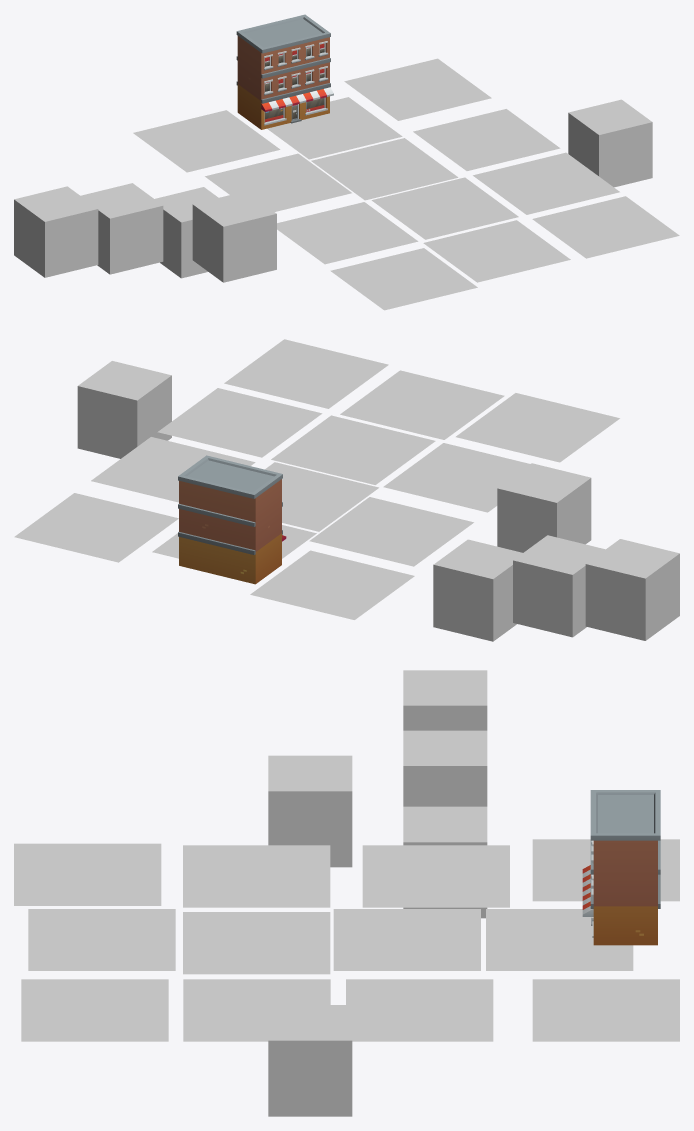
Rendered from city.glb.
The picture shows the model from 3 angles, top to bottom: view 1: azimuth 30°, elevation 25°; view 2: azimuth 150°, elevation 25°; view 3: azimuth 270°, elevation 25°; orthographic projection. The views are drawn at different scales.
Visible parts, largest first — view 1: building_E_withoutBase, Cube.002, Cube.003, Cube.004, Cube.001, Plane, Plane.007, Plane.003, Plane.004, Plane.006, Plane.008, Plane.009 (+6 smaller); view 2: building_E_withoutBase, Cube.002, Cube.004, Cube, Cube.003, Cube.001, Plane.008, Plane.002, Plane.010, Plane, Plane.004, Plane.006 (+6 smaller); view 3: building_E_withoutBase, Cube.004, Plane.001, Plane.002, Plane.010, Plane.011, Plane, Plane.007, Plane.003, Plane.004, Plane.009, Cube.003 (+6 smaller).
Boxes of the visible parts, x1=… form: building_E_withoutBase: x1=236, y1=14, x2=333, y2=129; Cube.002: x1=14, y1=186, x2=98, y2=277; Cube.003: x1=192, y1=191, x2=276, y2=282; Cube.004: x1=568, y1=99, x2=652, y2=187; Cube.001: x1=80, y1=183, x2=163, y2=274; Plane: x1=371, y1=177, x2=518, y2=239; Plane.007: x1=330, y1=248, x2=477, y2=310; Plane.003: x1=311, y1=138, x2=458, y2=200; Plane.004: x1=423, y1=220, x2=570, y2=282; Plane.006: x1=133, y1=110, x2=280, y2=172; Plane.008: x1=473, y1=152, x2=619, y2=214; Plane.009: x1=413, y1=109, x2=560, y2=170; building_E_withoutBase: x1=178, y1=455, x2=286, y2=584; Cube.002: x1=585, y1=539, x2=679, y2=640; Cube.004: x1=77, y1=361, x2=171, y2=458; Cube: x1=433, y1=539, x2=522, y2=641; Cube.003: x1=497, y1=463, x2=591, y2=552; Cube.001: x1=513, y1=535, x2=605, y2=637; Plane.008: x1=157, y1=388, x2=322, y2=457; Plane.002: x1=309, y1=497, x2=473, y2=566; Plane.010: x1=14, y1=493, x2=178, y2=562; Plane: x1=271, y1=415, x2=435, y2=484; Plane.004: x1=340, y1=370, x2=504, y2=439; Plane.006: x1=250, y1=550, x2=414, y2=619; building_E_withoutBase: x1=582, y1=790, x2=660, y2=945; Cube.004: x1=268, y1=1005, x2=352, y2=1116; Plane.001: x1=183, y1=845, x2=330, y2=907; Plane.002: x1=362, y1=845, x2=509, y2=907; Plane.010: x1=532, y1=979, x2=679, y2=1041; Plane.011: x1=21, y1=979, x2=168, y2=1041; Plane: x1=183, y1=912, x2=330, y2=974; Plane.007: x1=14, y1=843, x2=161, y2=905; Plane.003: x1=333, y1=909, x2=480, y2=970; Plane.004: x1=28, y1=909, x2=175, y2=970; Plane.009: x1=346, y1=979, x2=493, y2=1041; Cube.003: x1=268, y1=755, x2=352, y2=867.
Size of the model in its own units: 46.97 by 11.37 by 35.68.
Materials: 1 (1 with a texture image).
